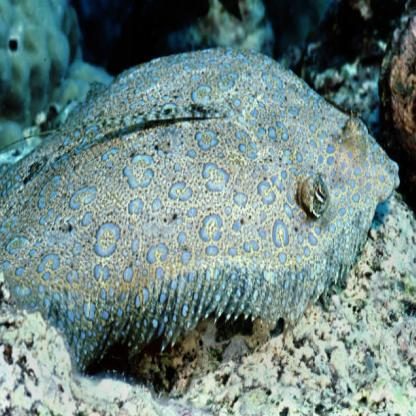flounder: (0, 41, 404, 354)
